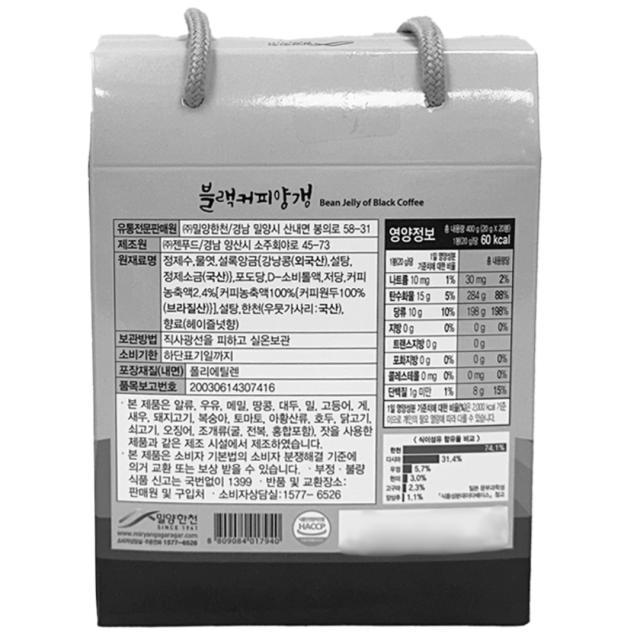Nutrition Label: (378, 211, 518, 428)
